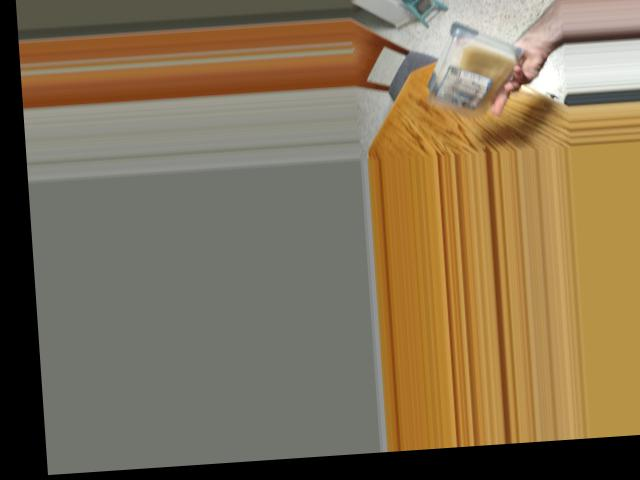cheese: (416, 24, 524, 110)
